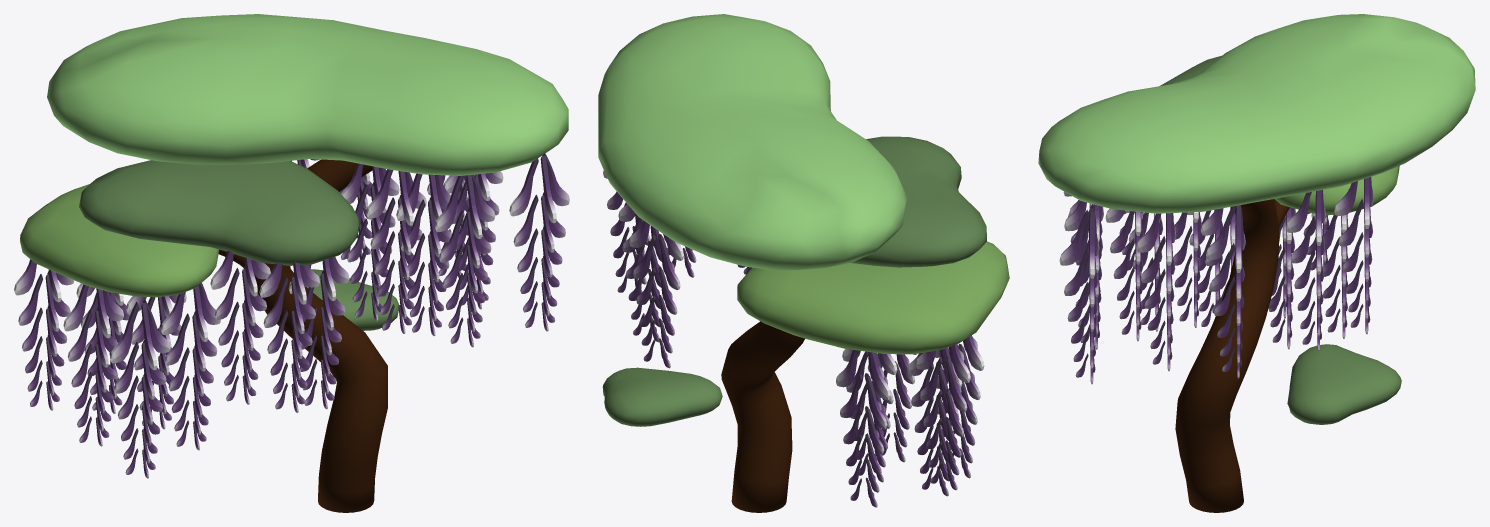
The model's file is ProtectionTree_01.fbx.
The picture shows the model from 3 angles, left to right: view 1: azimuth 30°, elevation 25°; view 2: azimuth 150°, elevation 25°; view 3: azimuth 270°, elevation 25°; orthographic projection. The views are drawn at different scales.
Parts seen in each view (by area): view 1: Plane.034; view 2: Plane.034; view 3: Plane.034.
Boxes of the visible parts, x1,y1,x2,y2 form: Plane.034: [14, 14, 569, 512]; Plane.034: [598, 14, 1009, 512]; Plane.034: [1038, 14, 1475, 512].
Bounding box in the file's own units: 1828 × 1696 × 1586.
